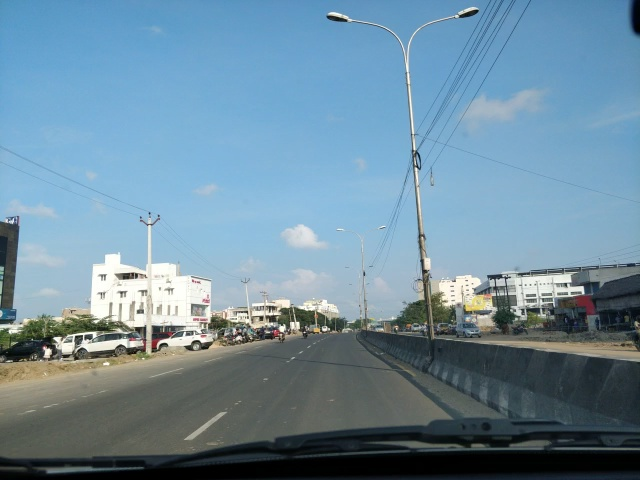car: (71, 328, 146, 363), (1, 337, 63, 363), (156, 328, 215, 354), (454, 321, 484, 338)
motorbike: (277, 321, 287, 346), (301, 321, 310, 340)
